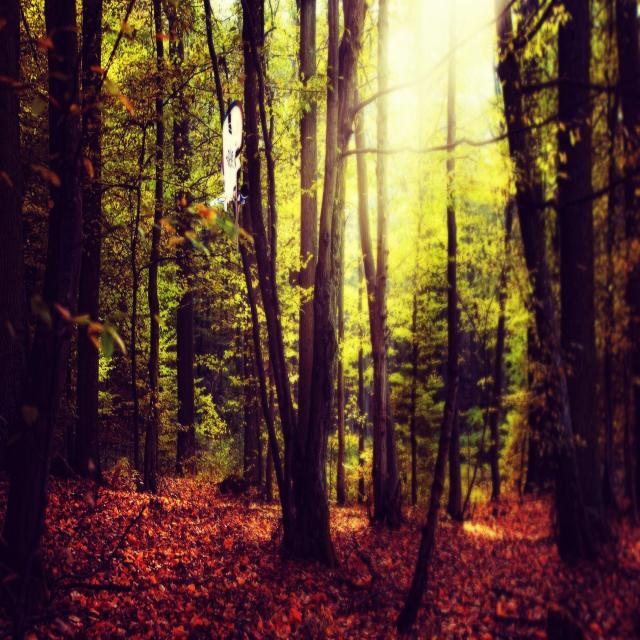airplane: (209, 103, 248, 253)
